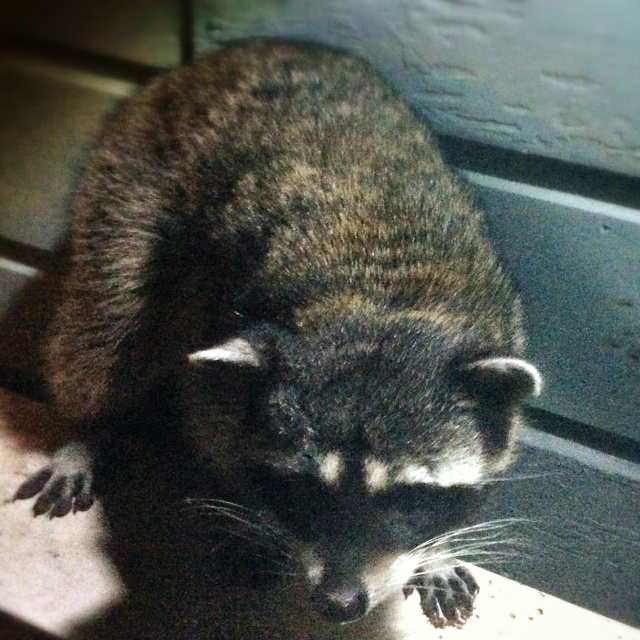Raccoon: (9, 36, 540, 628)
